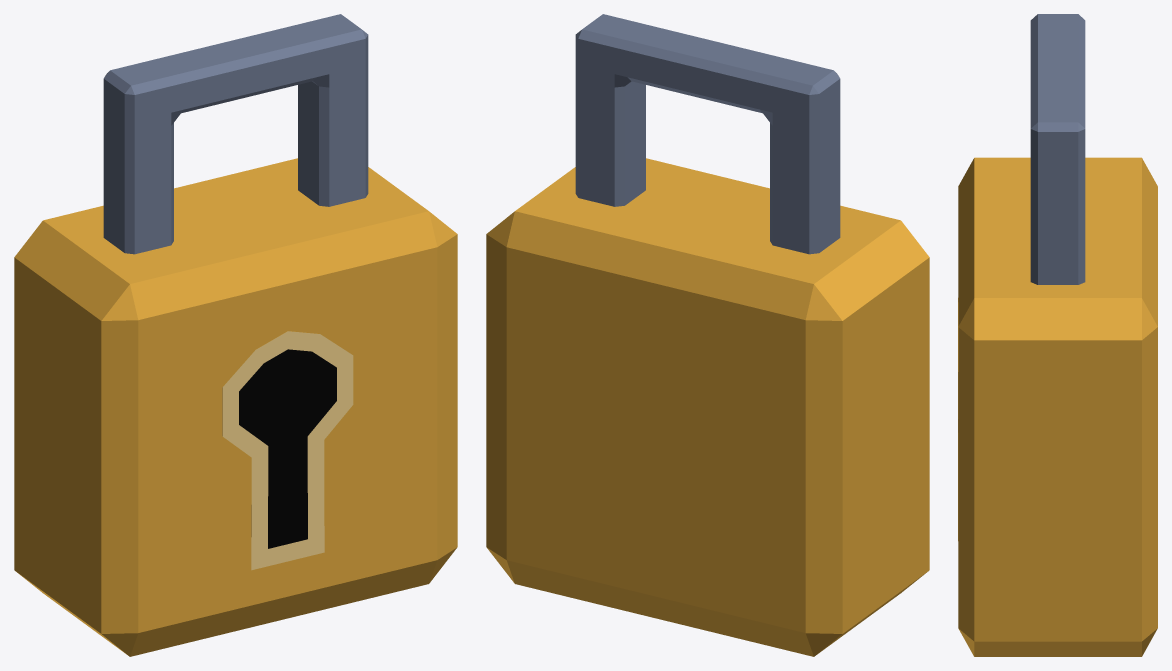
The model's file is cadeado.glb.
The picture shows the model from 3 angles, left to right: view 1: azimuth 30°, elevation 25°; view 2: azimuth 150°, elevation 25°; view 3: azimuth 270°, elevation 25°; orthographic projection. The views are drawn at different scales.
Parts seen in each view (by area): view 1: Cade, Ado; view 2: Cade, Ado; view 3: Cade, Ado.
Boxes of the visible parts, bbox=[...] form: Cade: bbox=[14, 158, 457, 656]; Ado: bbox=[103, 14, 368, 254]; Cade: bbox=[486, 158, 929, 656]; Ado: bbox=[575, 14, 840, 254]; Cade: bbox=[958, 157, 1157, 656]; Ado: bbox=[1030, 14, 1085, 284].
Bounding box in the file's own units: 1.49 × 2.15 × 0.753.
